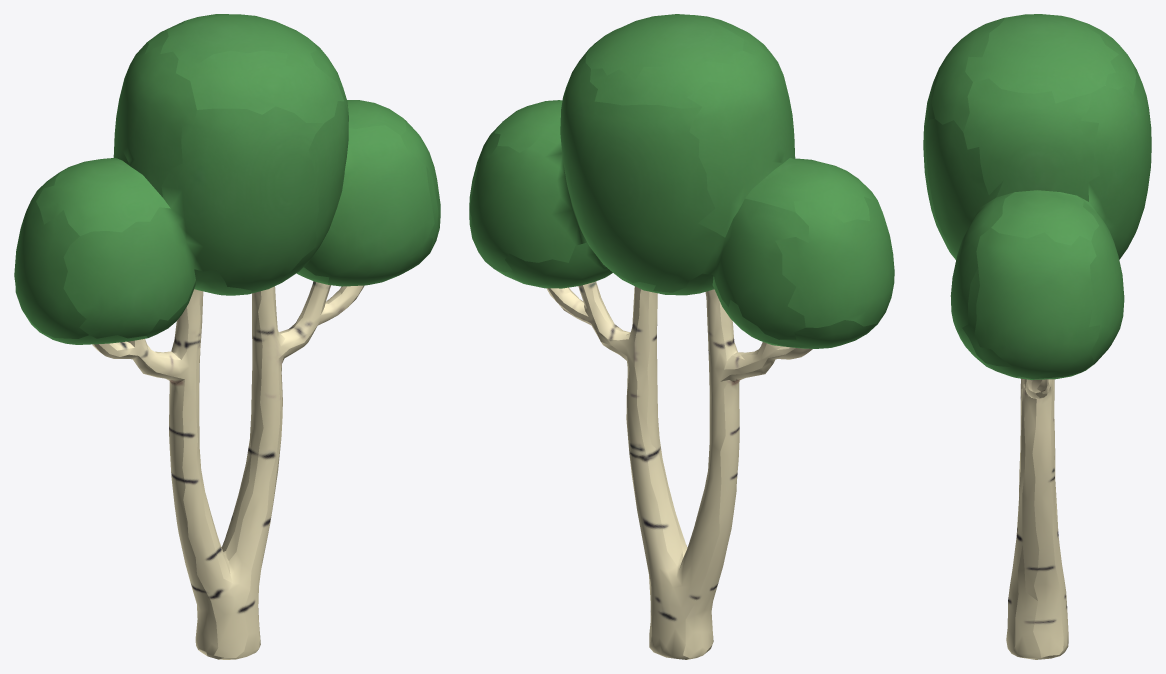
Rendered from ENV_09_BIRCH.glb.
3 views of the same model, side by side, from view 1: azimuth 30°, elevation 25°; view 2: azimuth 150°, elevation 25°; view 3: azimuth 270°, elevation 25° (orthographic).
Parts seen in each view (by area): view 1: world; view 2: world; view 3: world.
Part boxes in pixels (<box>): world: <box>14,14,440,659</box>; world: <box>469,14,894,659</box>; world: <box>923,14,1151,659</box>.
Bounding box in the file's own units: 0.6787 × 1 × 0.3337.
1 material, 1 textured.
